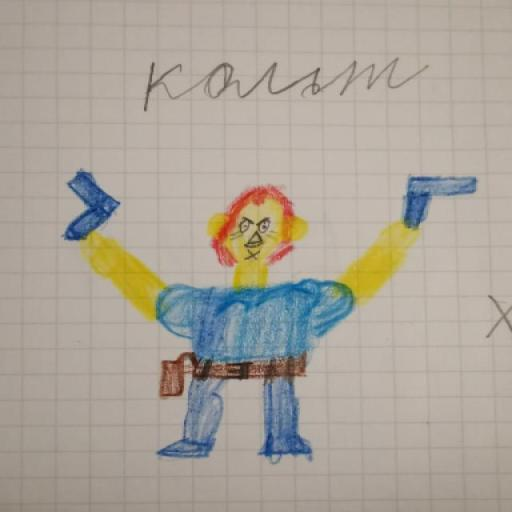person: (41, 141, 479, 494)
